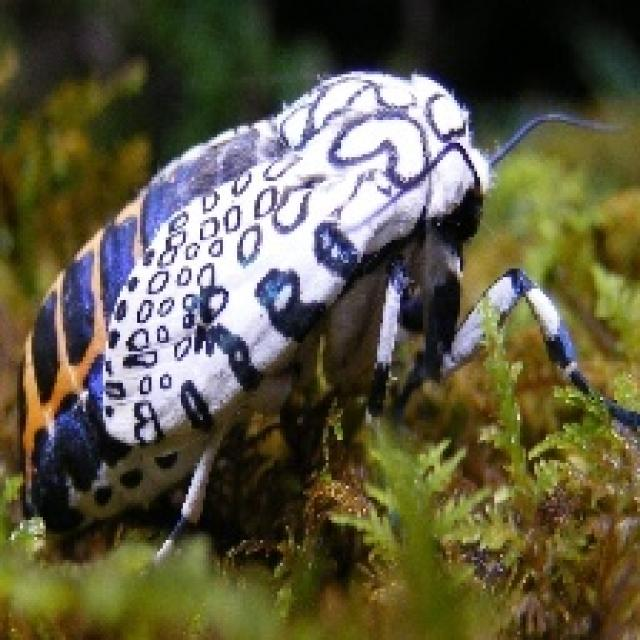butterfly: (14, 66, 637, 566)
